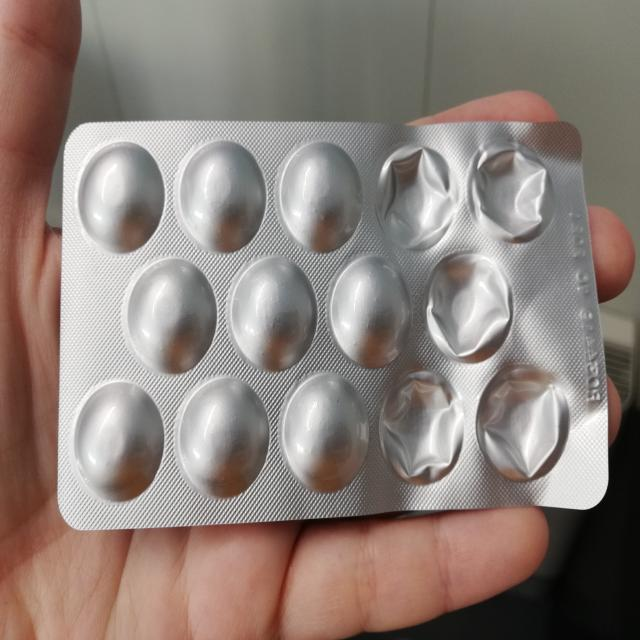Empty: (473, 366, 572, 486), (424, 254, 517, 365), (466, 135, 556, 247), (373, 140, 460, 255), (380, 372, 466, 487)
Pill: (174, 378, 272, 504), (70, 376, 166, 504), (277, 372, 375, 496), (122, 258, 220, 378), (174, 137, 267, 256), (76, 138, 166, 258), (275, 135, 364, 256), (226, 258, 320, 372), (328, 255, 414, 367)
